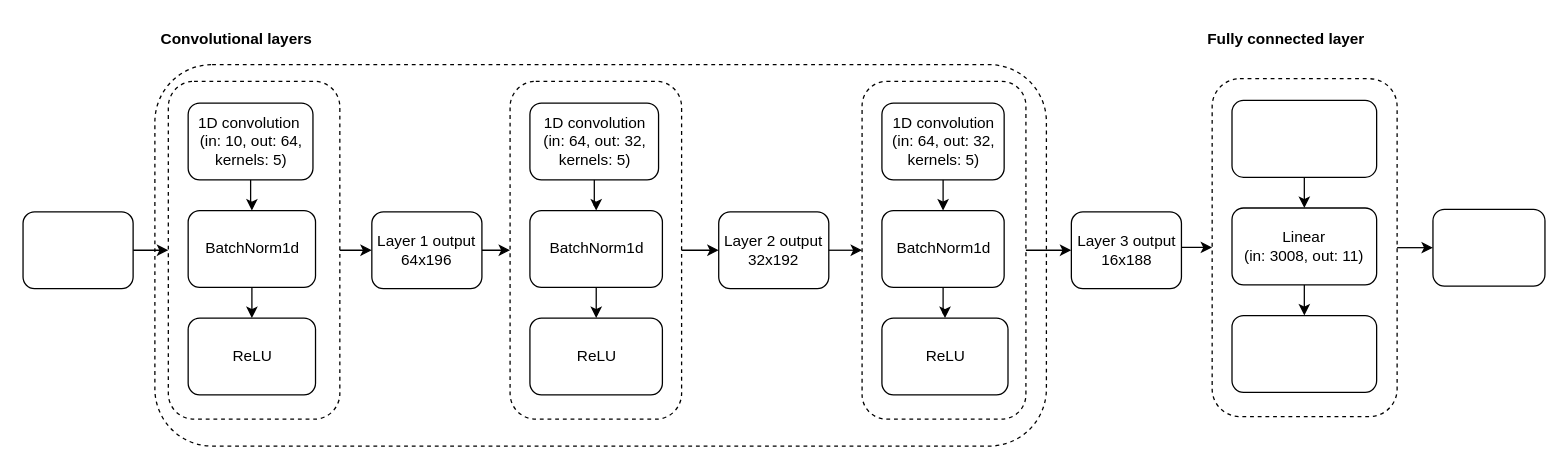
Some shapes in this 1567 by 468 pixel diagram are drawn without their labels. The centre of each missing label's shape, as x and y in pixels:
Flatten 16x188 to 1x3008: (1304,138)
Input array 10x200: (77,250)
Layer 4 output 1x11: (1488,247)
Softmax: (1304,353)
